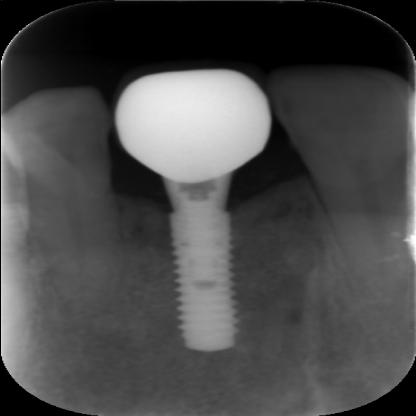ITI: (156, 208, 240, 357)
